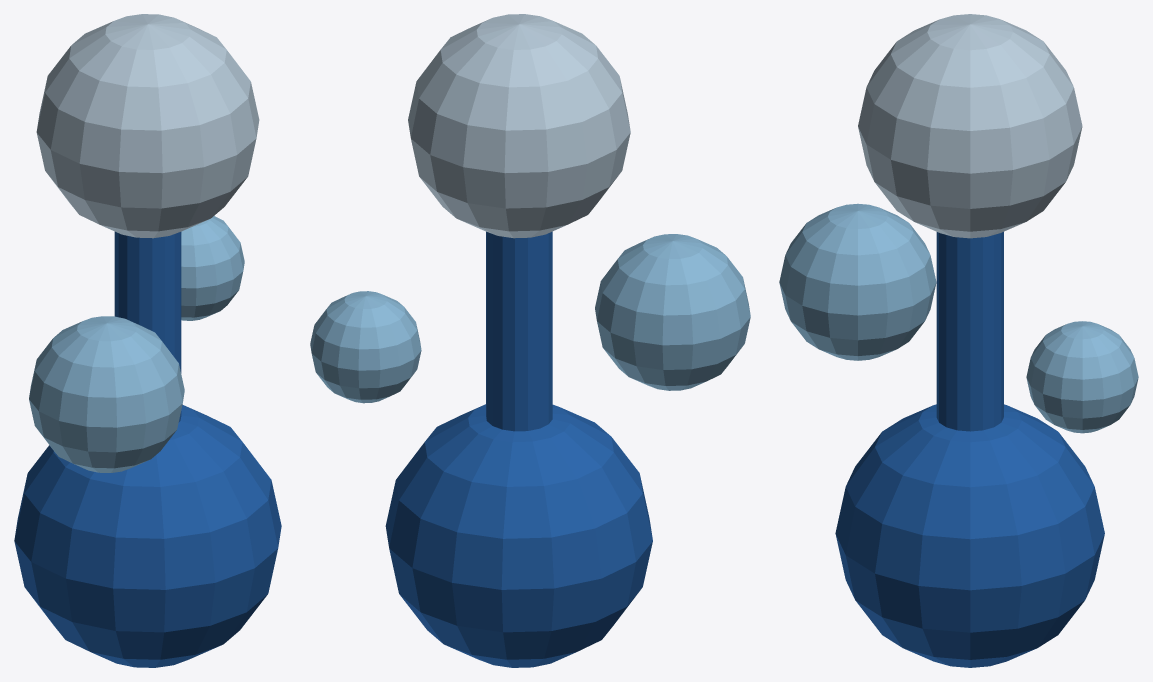
Rendered from Circle Structure.fbx.
The picture shows the model from 3 angles, left to right: view 1: azimuth 30°, elevation 25°; view 2: azimuth 150°, elevation 25°; view 3: azimuth 270°, elevation 25°; orthographic projection.
Parts seen in each view (by area): view 1: bottom, top, rottating middle; view 2: bottom, top, rottating middle; view 3: bottom, top, rottating middle.
Part boxes in pixels (left/top/right/bottom): bottom: left=14, top=231, right=281, bottom=667; top: left=36, top=14, right=259, bottom=238; rottating middle: left=29, top=216, right=244, bottom=472; bottom: left=385, top=231, right=652, bottom=667; top: left=408, top=14, right=630, bottom=238; rottating middle: left=310, top=234, right=750, bottom=403; bottom: left=835, top=232, right=1104, bottom=667; top: left=858, top=14, right=1082, bottom=238; rottating middle: left=779, top=203, right=1138, bottom=433.
Size of the model in its own units: 320 by 620 by 320.
